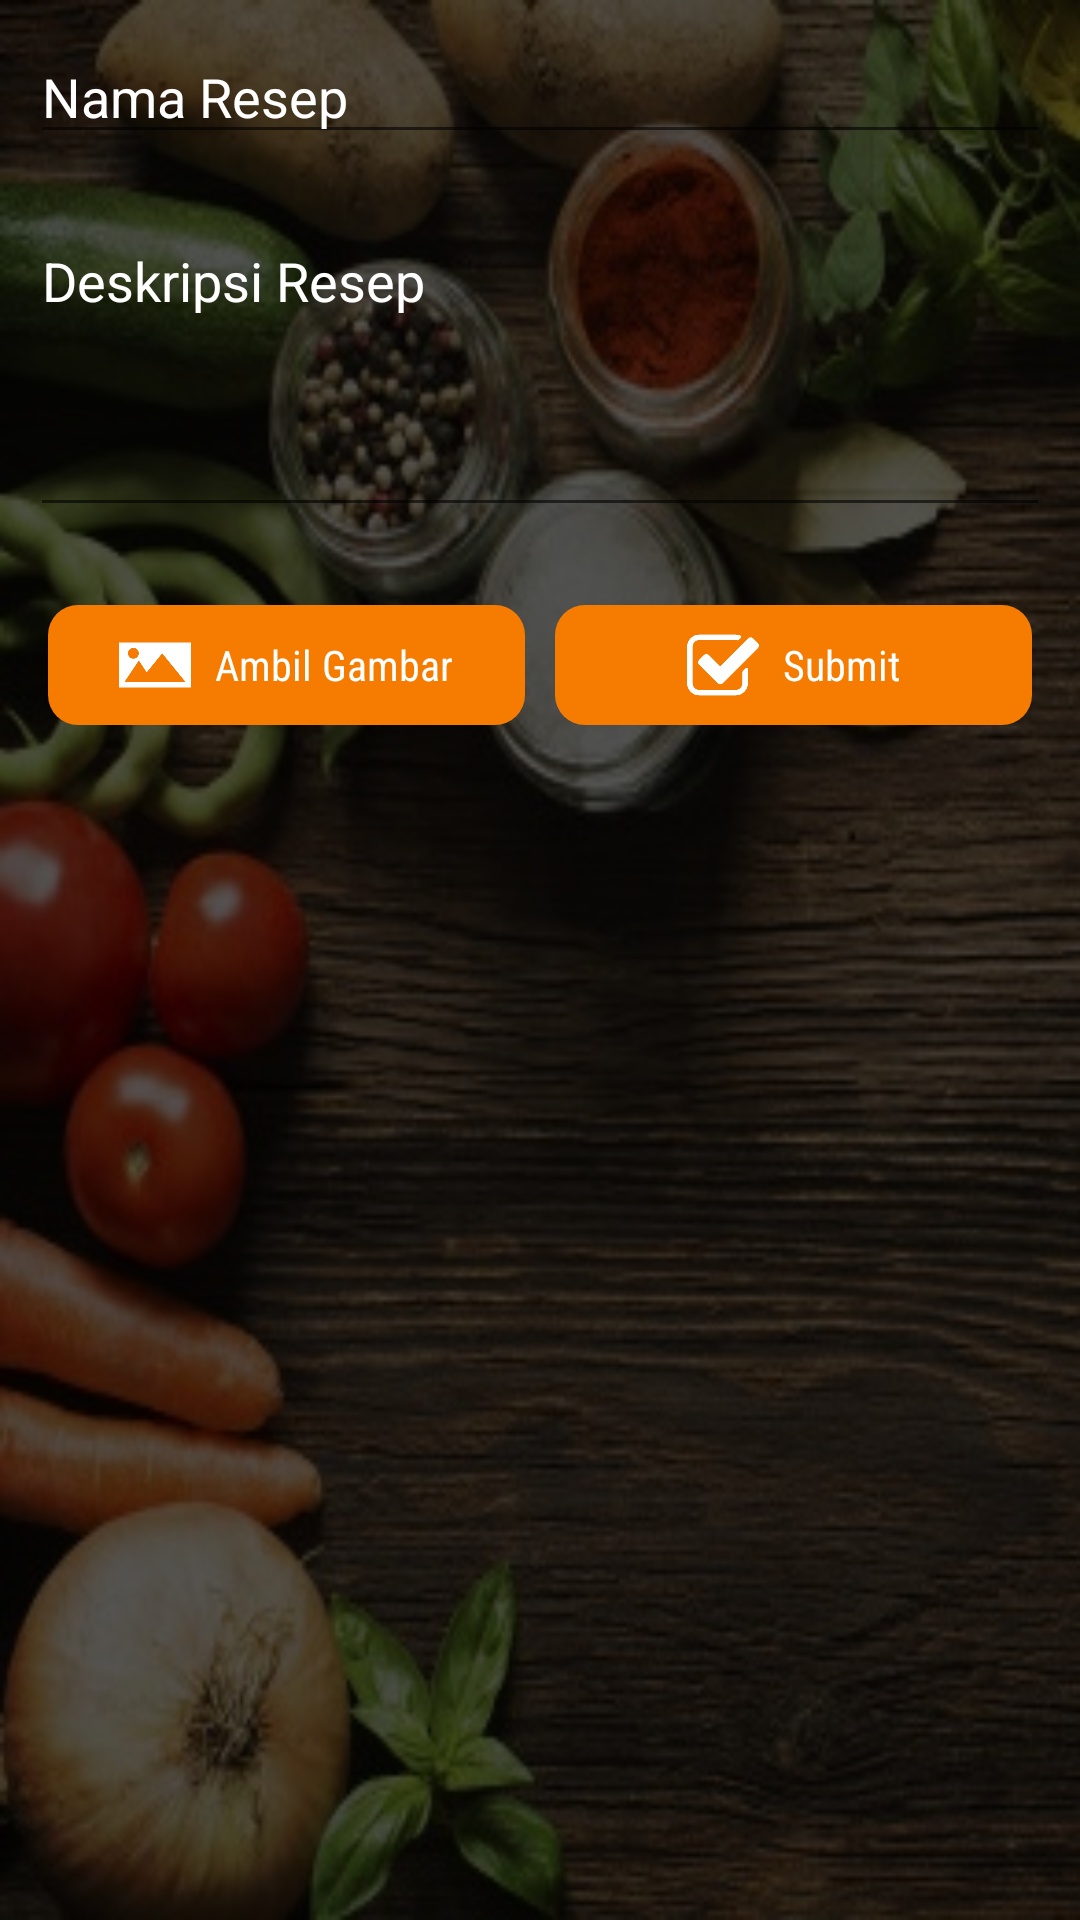

Screen size 1080px×1920px. Icon name, then its box in pixels as region(x1, y1, x2, y2):
gallery: region(119, 642, 191, 688)
